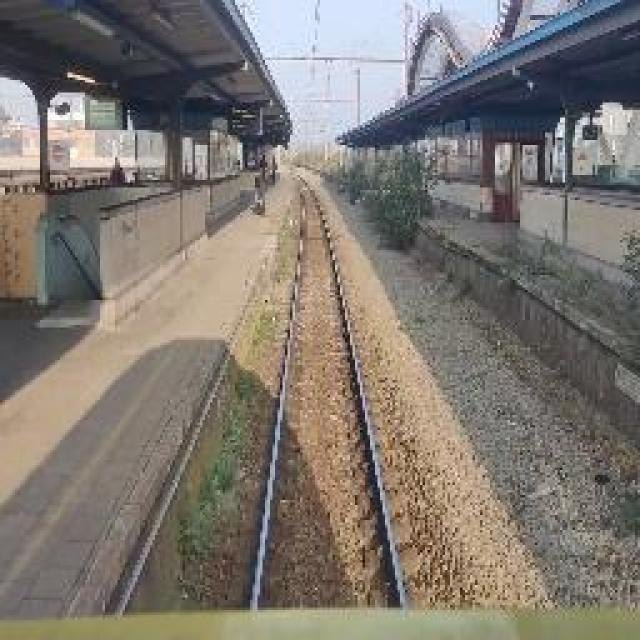rail: (201, 171, 425, 612)
